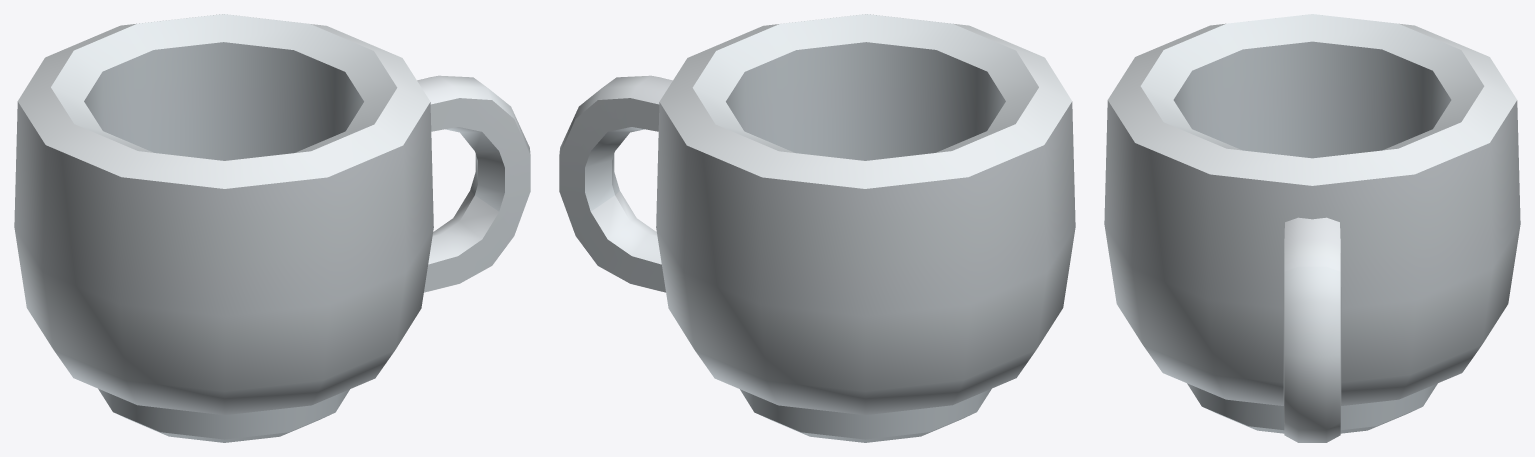
Rendered from mug-b.glb.
3 renders of one model, left to right at view 1: azimuth 30°, elevation 25°; view 2: azimuth 150°, elevation 25°; view 3: azimuth 270°, elevation 25°, orthographic.
Parts seen in each view (by area): view 1: mug_B; view 2: mug_B; view 3: mug_B.
Part boxes in pixels (x1=…): mug_B: x1=14, y1=14, x2=530, y2=442; mug_B: x1=559, y1=14, x2=1075, y2=442; mug_B: x1=1104, y1=14, x2=1520, y2=442.
Size of the model in its own units: 0.5547 by 0.3405 by 0.4218.
1 material, 1 textured.
